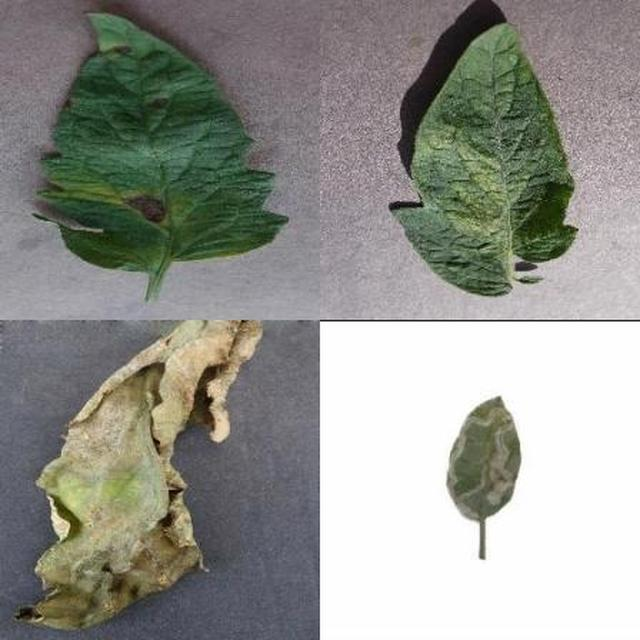Early Blight Leaf: (104, 181, 640, 640)
